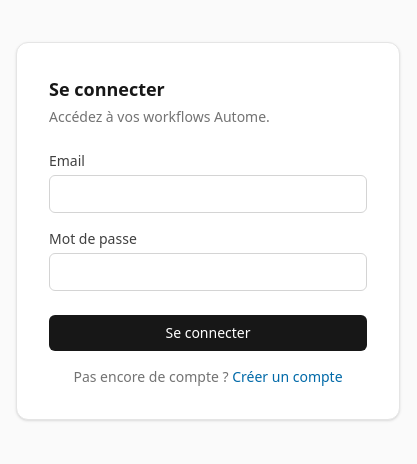
Test: <LoginPage /> › affiche le message d'erreur serveur (401)
In the field labelled "Email": (208, 194) [49,175,367,213], type "a@b.io"
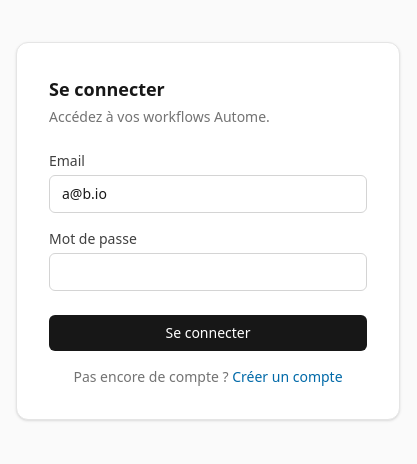
In the password field labelled "Mot de passe": (208, 272) [49,253,367,291], type "longenough"
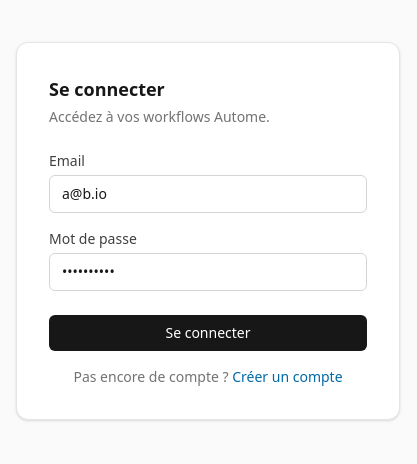
Click the button "Se connecter": (208, 333) [49,315,367,351]
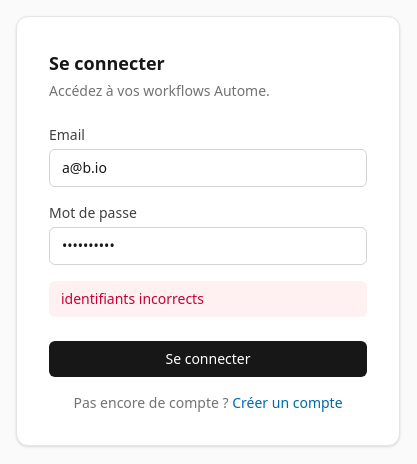
Now the message reads "identifiants incorrects", box [61,289,204,308]
